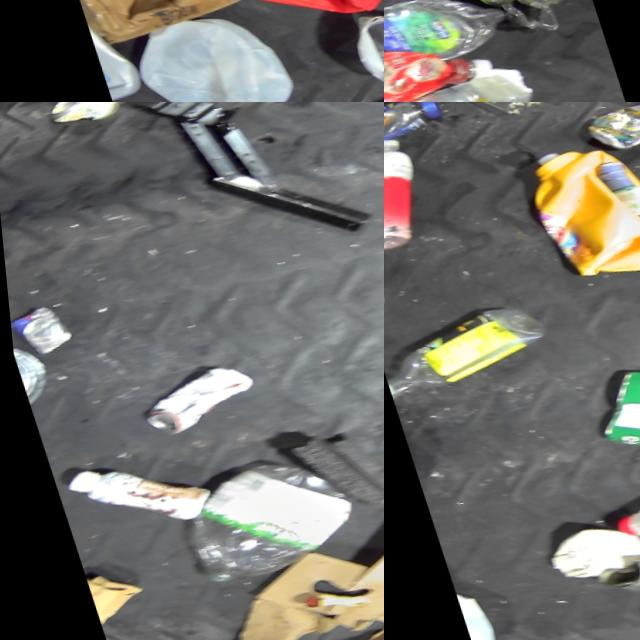can: (122, 354, 261, 443), (573, 344, 640, 458)
milk_jug: (122, 0, 296, 102), (578, 422, 640, 555)
non_white_jug: (501, 116, 640, 299), (384, 16, 503, 102)
plastic_bottle: (154, 440, 359, 597), (384, 292, 555, 400), (56, 438, 206, 539), (384, 0, 514, 68), (94, 627, 206, 640)
